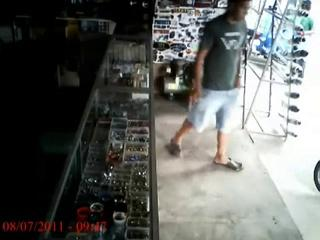Normal: (300, 0, 314, 32)
shoplifting: (165, 0, 252, 172)
